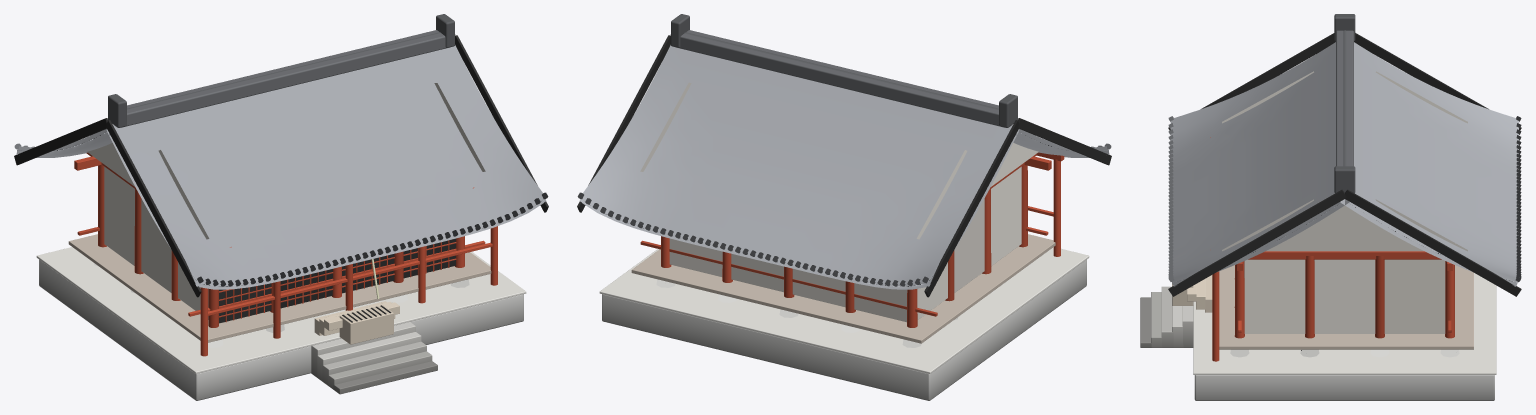
File: shrine_hall.glb
3 renders of one model, left to right at view 1: azimuth 30°, elevation 25°; view 2: azimuth 150°, elevation 25°; view 3: azimuth 270°, elevation 25°, orthographic. The views are drawn at different scales.
Visible parts, largest first — view 1: shrine_hall; view 2: shrine_hall; view 3: shrine_hall.
Boxes of the visible parts, x1,y1,x2,y2 form: shrine_hall: [14, 14, 548, 400]; shrine_hall: [577, 14, 1111, 400]; shrine_hall: [1140, 14, 1521, 400].
Bounding box in the file's own units: 12.79 × 8.59 × 12.69.
